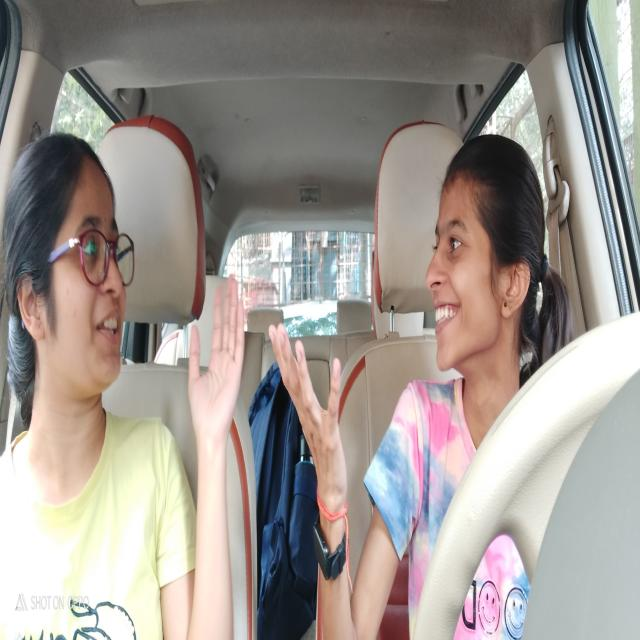LeftRight: (424, 136, 550, 380)
person: (2, 120, 131, 406)
talking: (94, 308, 128, 352), (433, 296, 462, 336)
